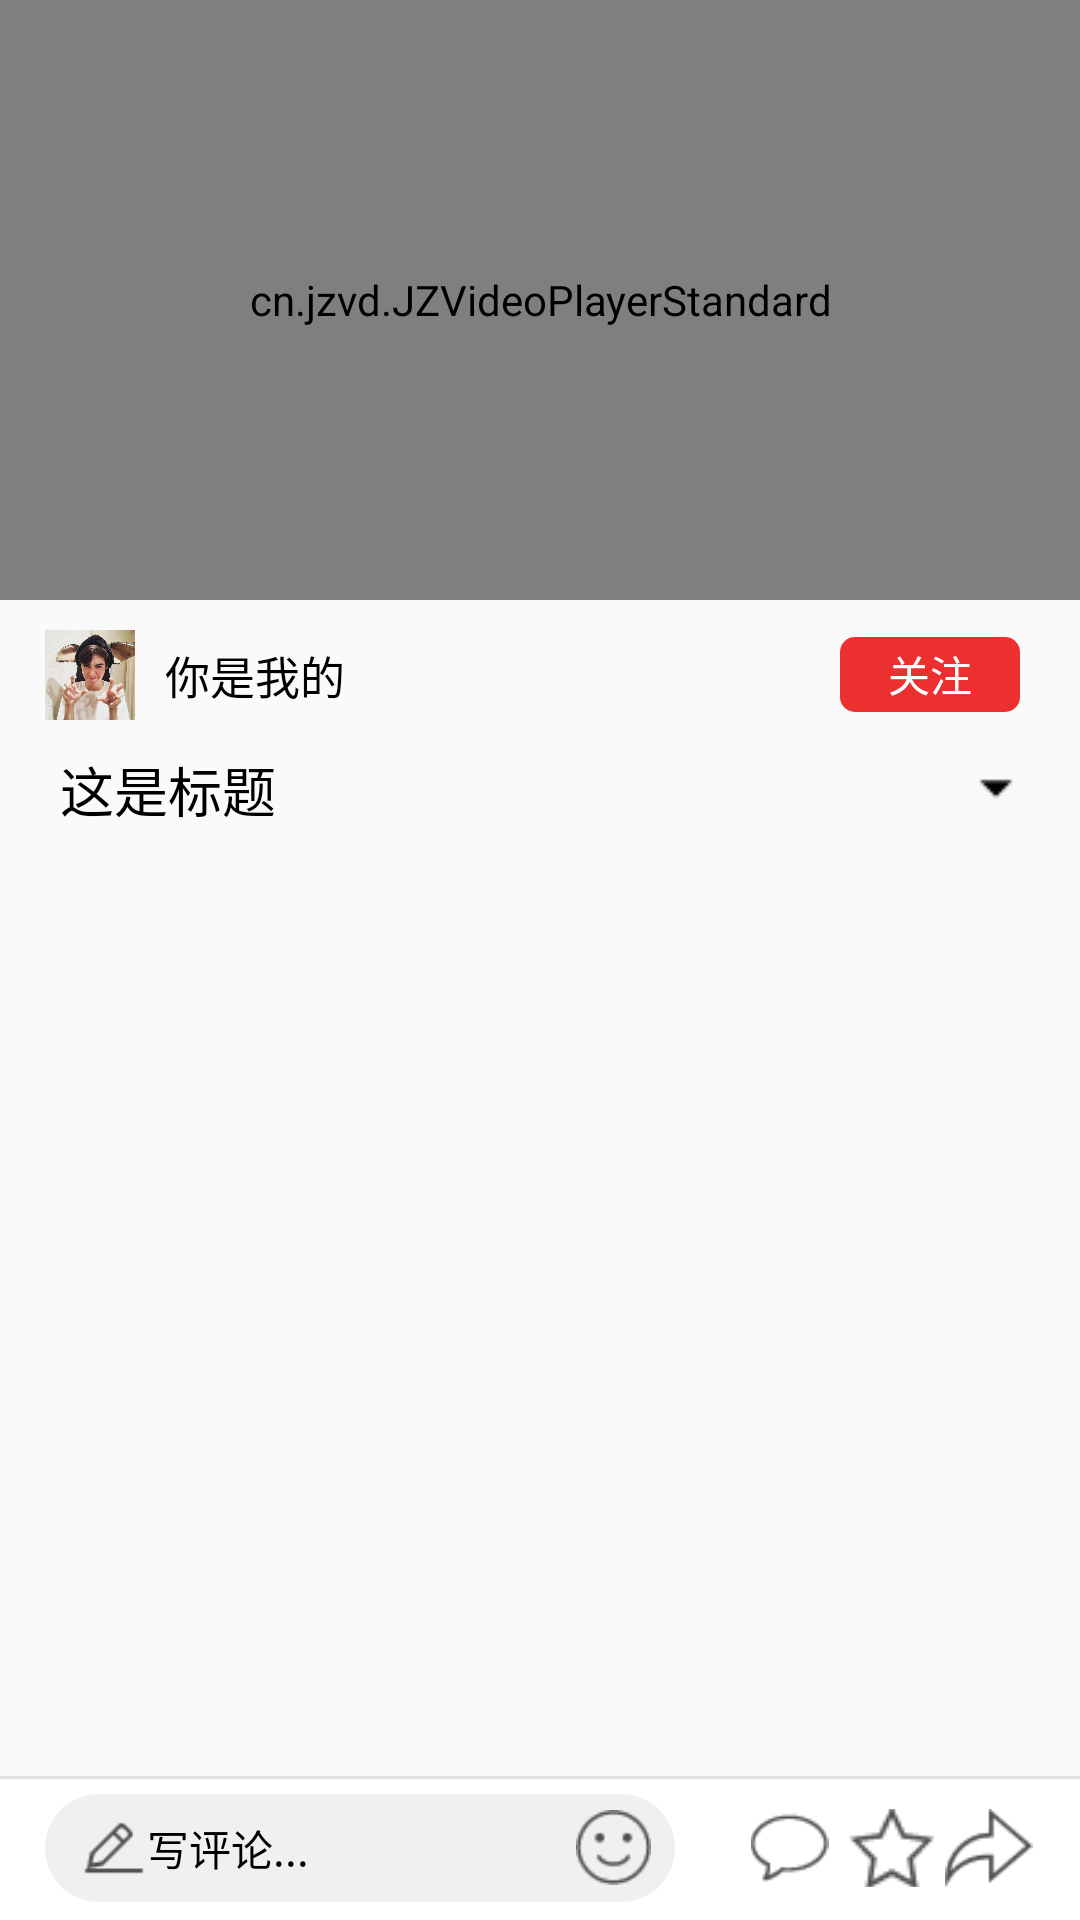

Screen size 1080*1920. Icon name, then its box in pixels as (x1, y1, x2, y2):
comment: (751, 1814, 829, 1882)
down: (980, 779, 1012, 798)
edit: (84, 1823, 144, 1873)
portrait pic: (45, 630, 135, 720)
share: (945, 1809, 1033, 1887)
smile: (576, 1810, 651, 1885)
uncollect: (850, 1809, 934, 1887)
